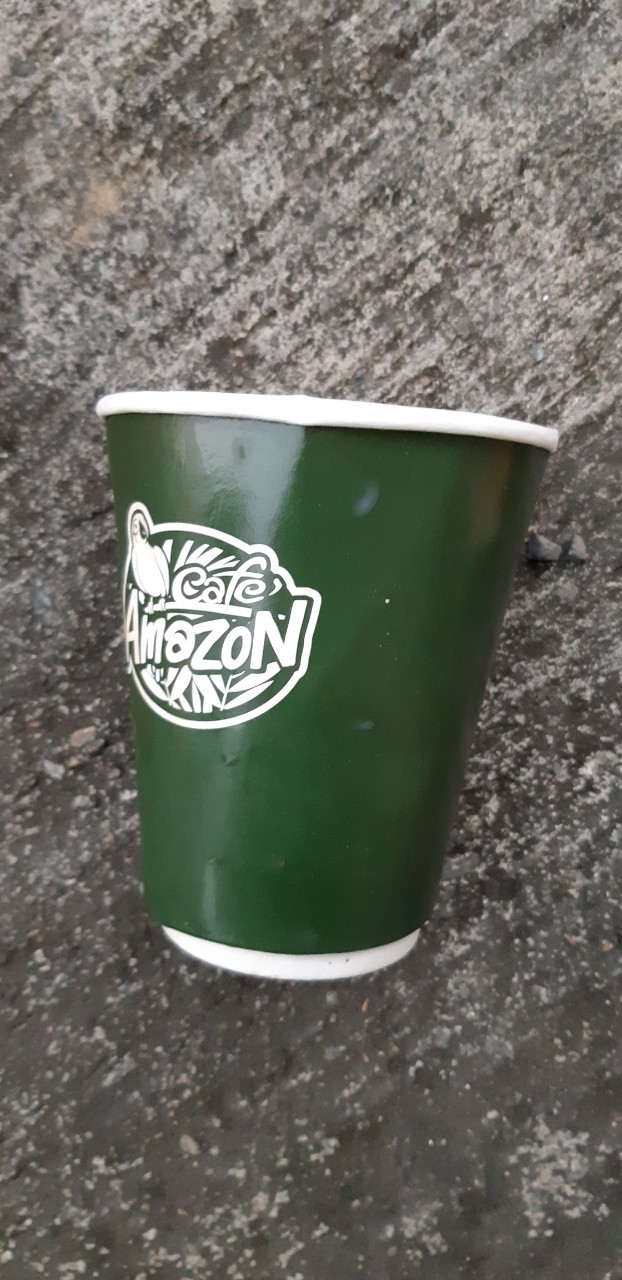PaperCup: (100, 384, 555, 970)
